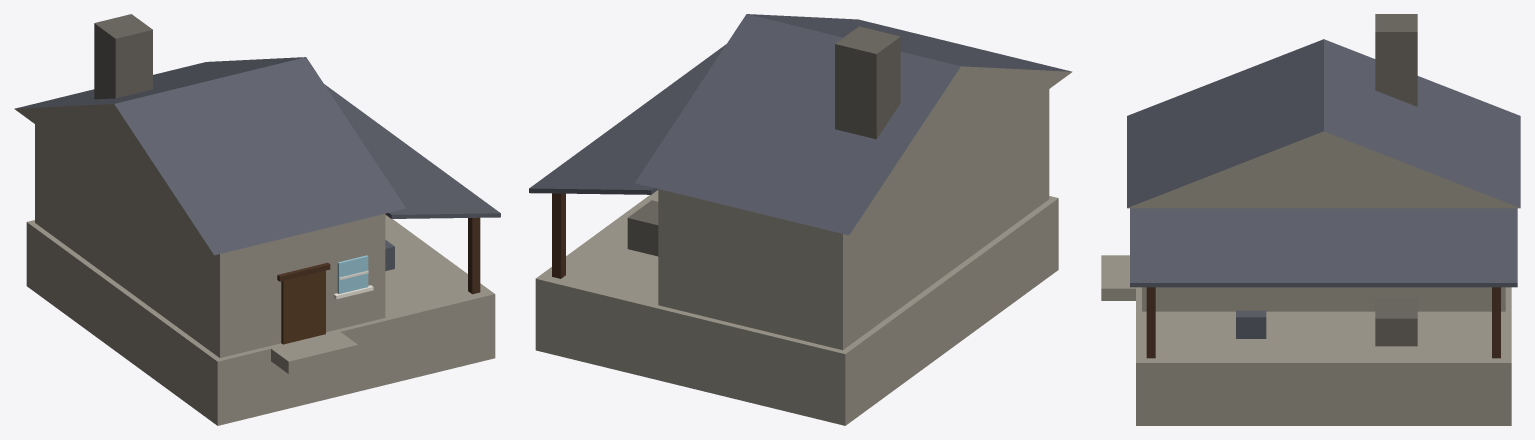
File: blacksmith.glb
3 renders of one model, left to right at view 1: azimuth 30°, elevation 25°; view 2: azimuth 150°, elevation 25°; view 3: azimuth 270°, elevation 25°, orthographic. The views are drawn at different scales.
Visible parts, largest first — view 1: blacksmith-col; view 2: blacksmith-col; view 3: blacksmith-col.
Part boxes in pixels (x1,y1,x2,y2): blacksmith-col: (14,14,500,425); blacksmith-col: (529,14,1072,425); blacksmith-col: (1101,14,1520,425).
Size of the model in its own units: 10.8 by 10.5 by 13.85.
